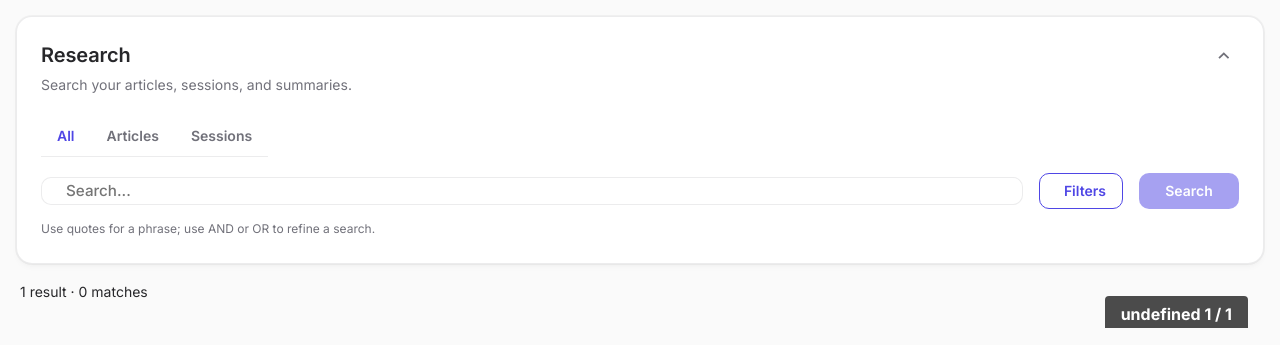
Research View › branch coverage edge cases › uses fallback labels when translations omit panel toggle strings
What coordinates should you click on to do the following:
click the button named "Hide Search"
I would click on:
 (1224, 56)
Its box is [1209, 41, 1239, 71].
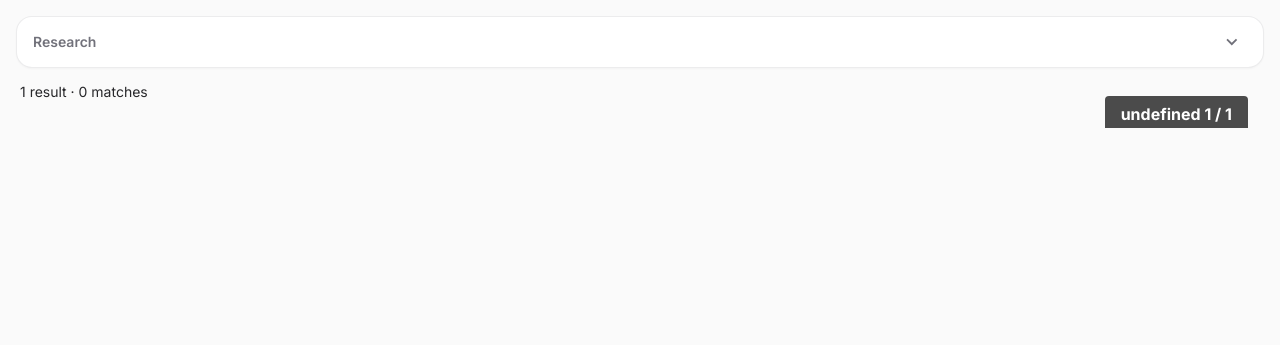
Now the button named "Show Search" is shown, box [1217, 27, 1247, 57]
